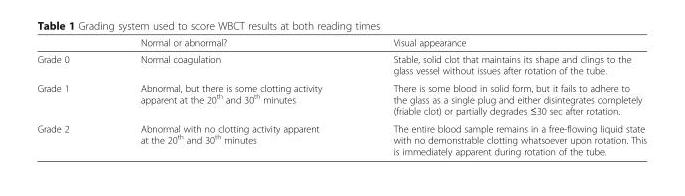table: (36, 36, 646, 156)
table column: (357, 36, 646, 156), (104, 36, 357, 156), (36, 36, 104, 156)
table column header: (36, 36, 646, 50)
table row: (36, 79, 646, 119), (36, 119, 646, 156), (36, 50, 646, 79), (36, 36, 646, 50)
